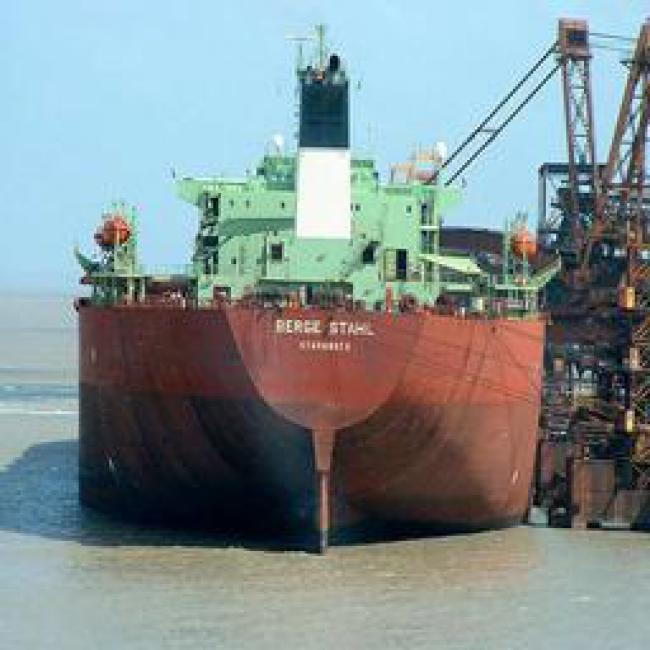Ship: (56, 156, 568, 554)
